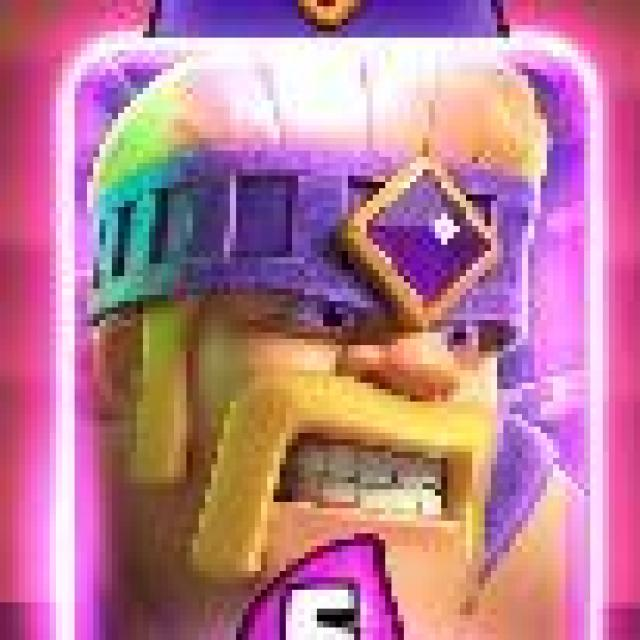Evolved_Barbarians: (55, 31, 612, 640)
